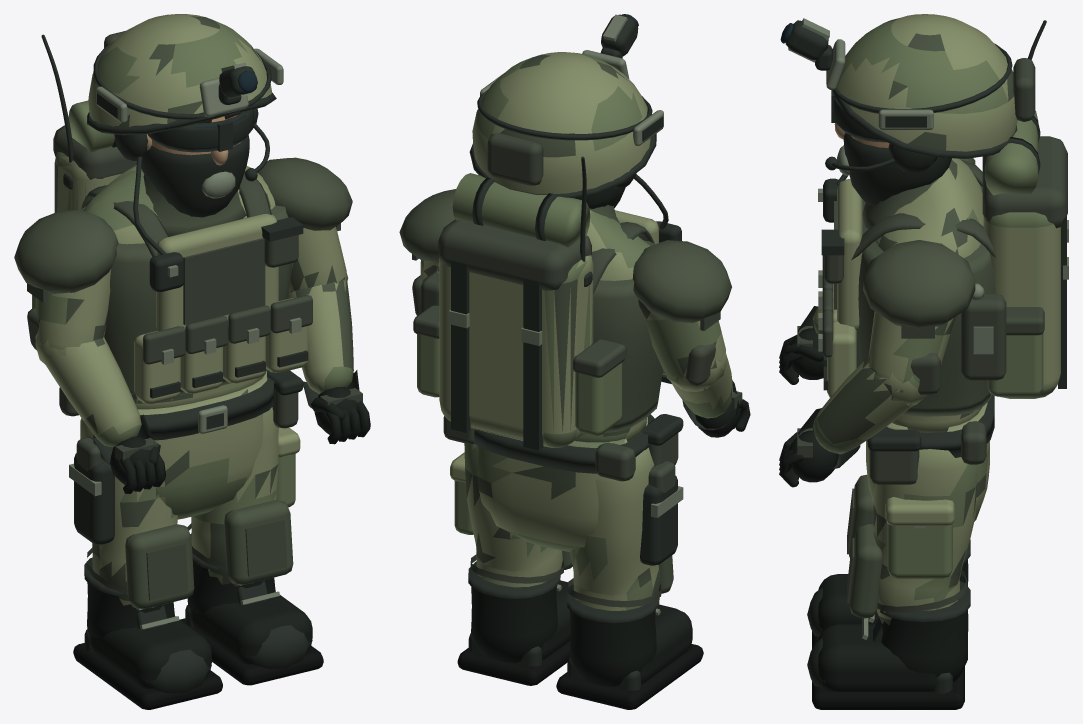
File: soldier_enemy_olive.obj
3 renders of one model, left to right at view 1: azimuth 30°, elevation 25°; view 2: azimuth 150°, elevation 25°; view 3: azimuth 270°, elevation 25°, orthographic. The views are drawn at different scales.
Visible parts, largest first — view 1: soldier_enemy_olive; view 2: soldier_enemy_olive; view 3: soldier_enemy_olive.
Part boxes in pixels (bbox=[...]): soldier_enemy_olive: bbox=[14, 14, 370, 709]; soldier_enemy_olive: bbox=[399, 14, 750, 709]; soldier_enemy_olive: bbox=[779, 14, 1068, 709].
Size of the model in its own units: 38.48 by 71.96 by 29.24.
